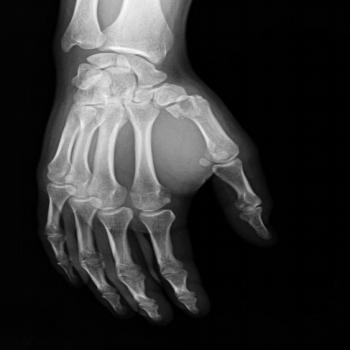Fracture: (166, 95, 193, 122)
